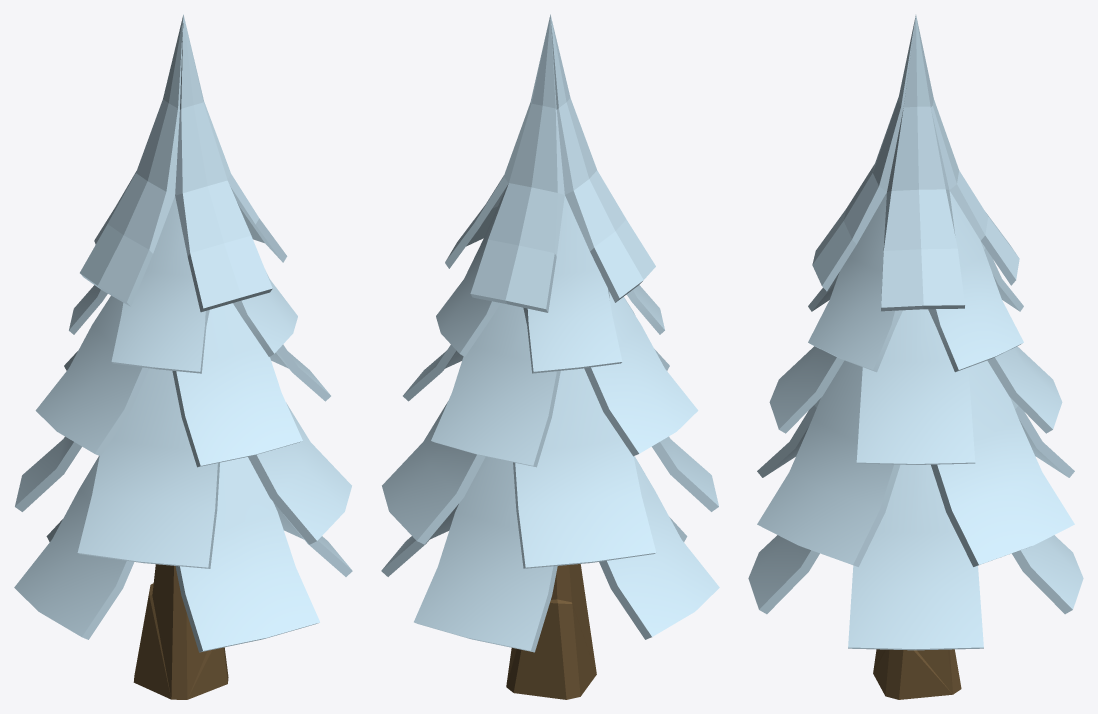
The model's file is model_polytope_snow_fern02.fbx.
3 views of the same model, side by side, from view 1: azimuth 30°, elevation 25°; view 2: azimuth 150°, elevation 25°; view 3: azimuth 270°, elevation 25° (orthographic).
Parts seen in each view (by area): view 1: model_polytope_snow_fern02; view 2: model_polytope_snow_fern02; view 3: model_polytope_snow_fern02.
Part boxes in pixels (x1,y1,x2,y2): model_polytope_snow_fern02: (14, 14, 352, 699); model_polytope_snow_fern02: (381, 14, 719, 699); model_polytope_snow_fern02: (748, 15, 1083, 699).
Bounding box in the file's own units: 202 × 445 × 202.
Materials: 1 (1 with a texture image).
